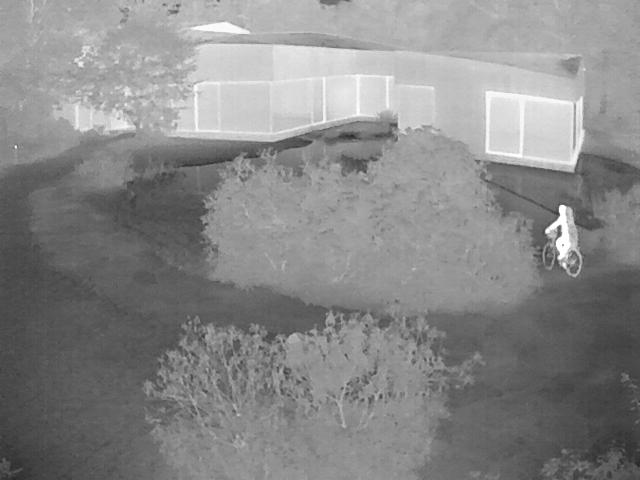person: (546, 206, 574, 268)
